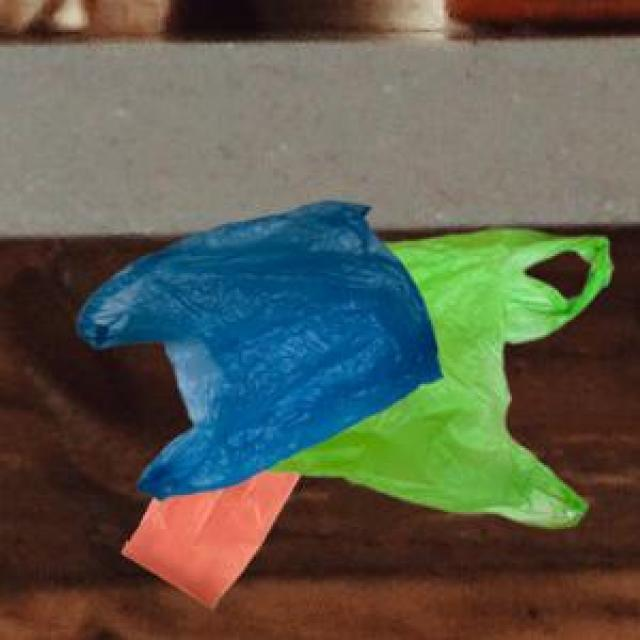waste: (78, 201, 608, 606), (78, 202, 612, 528)
